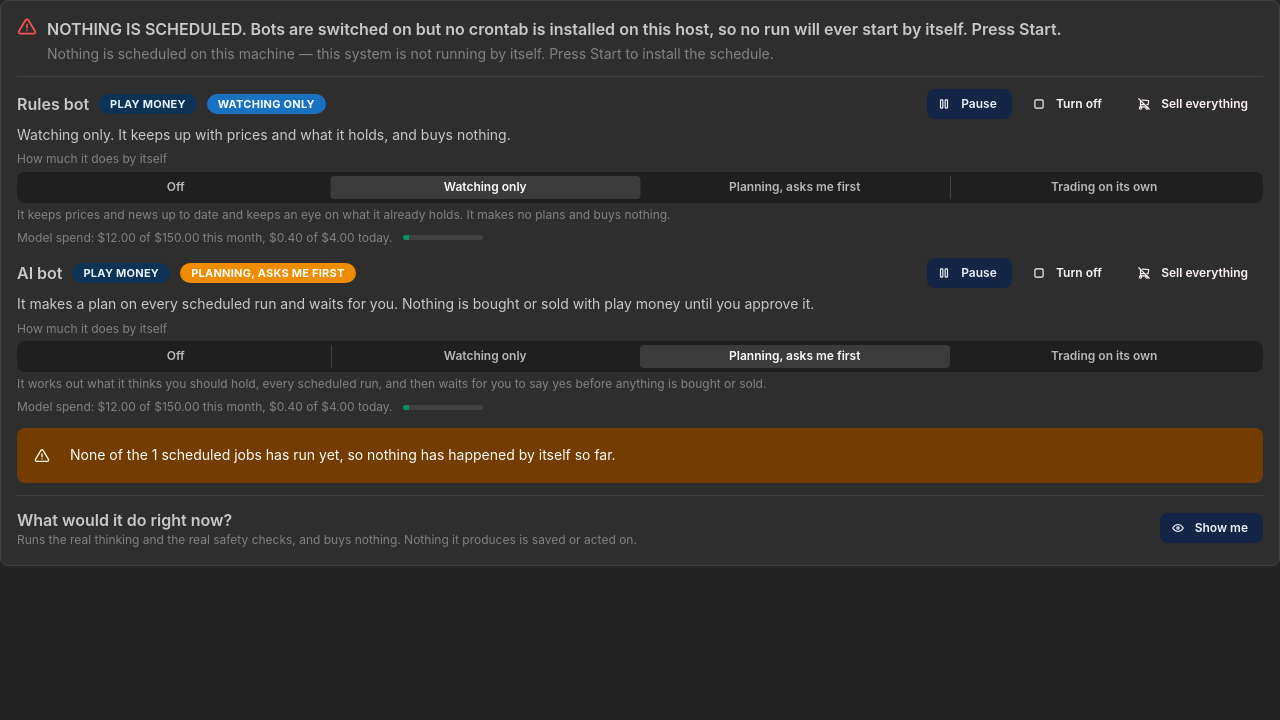
the control on Home › makes selling everything type a phrase, and says it is not the emergency stop
Step 1. Click the button with test id "flatten-b" → (1195, 273), box [1127, 258, 1263, 288]
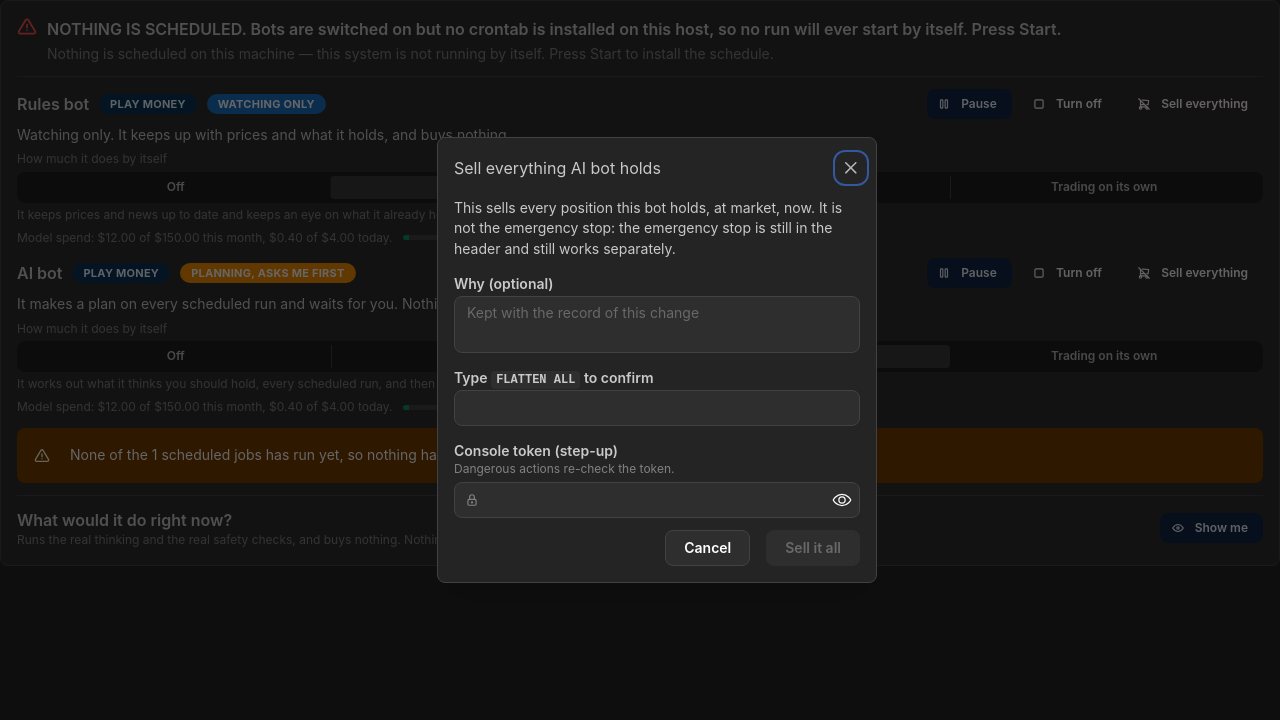
Expected: the dialog shows "FLATTEN ALL", [496, 373, 575, 387]
Expected: the dialog shows "not the emergency stop", [454, 199, 842, 257]
